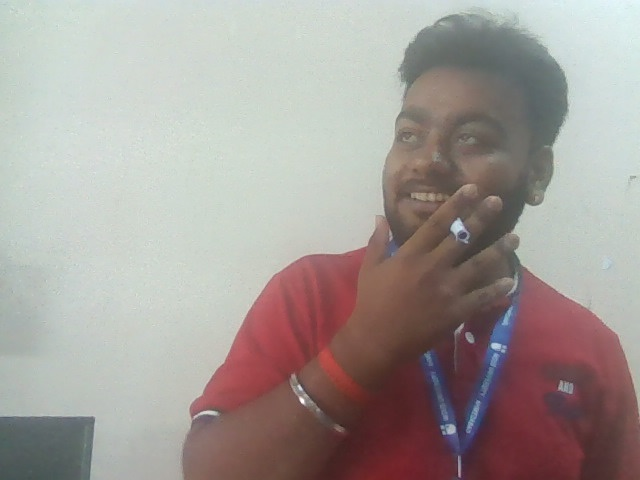smoking: (393, 171, 524, 305)
